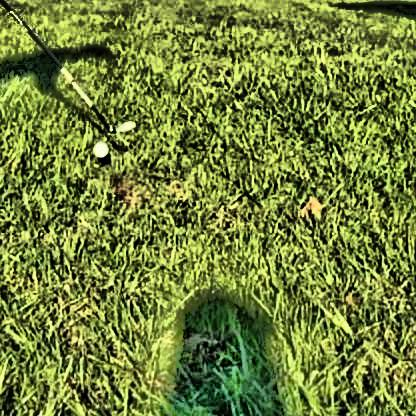golfball: (90, 138, 107, 155)
